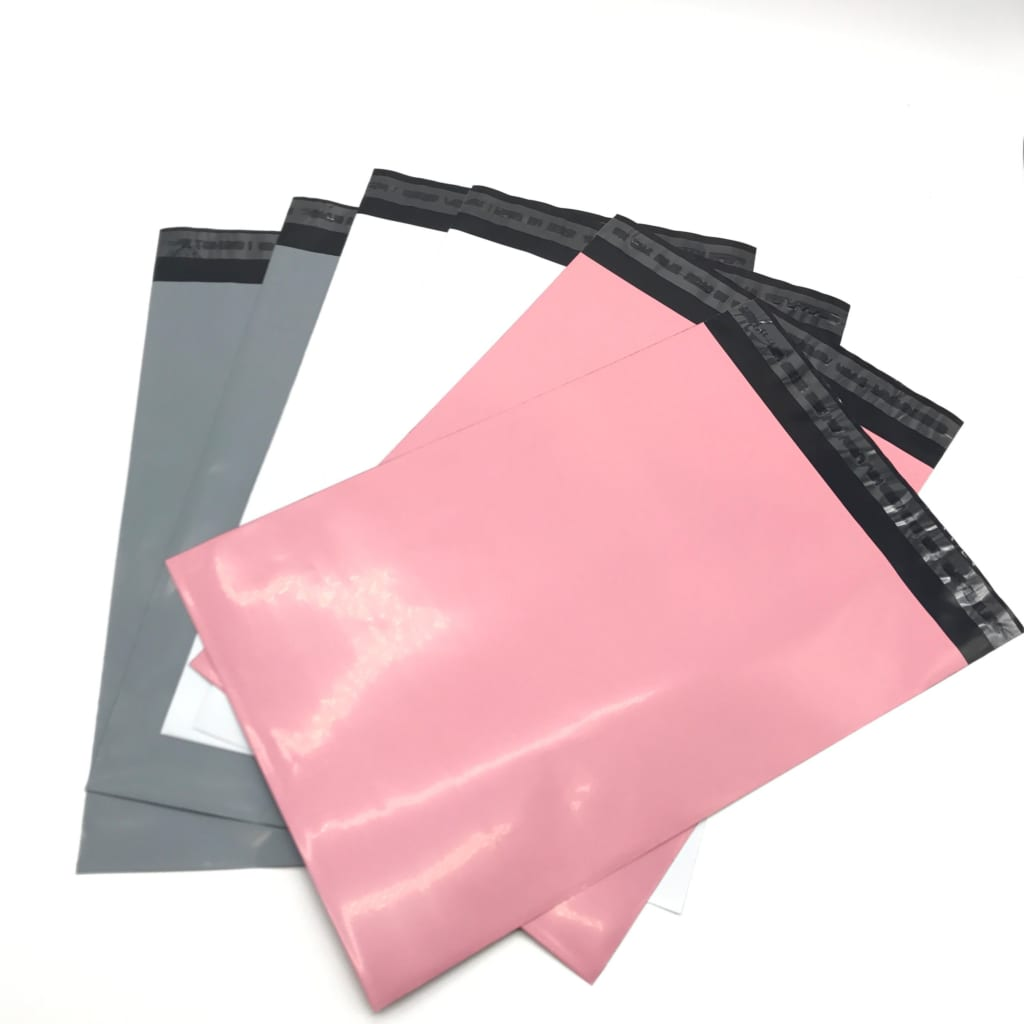Parcel: (160, 299, 1024, 1012), (94, 192, 352, 833), (387, 218, 962, 494), (74, 227, 297, 874), (290, 189, 600, 497), (234, 171, 471, 526)
